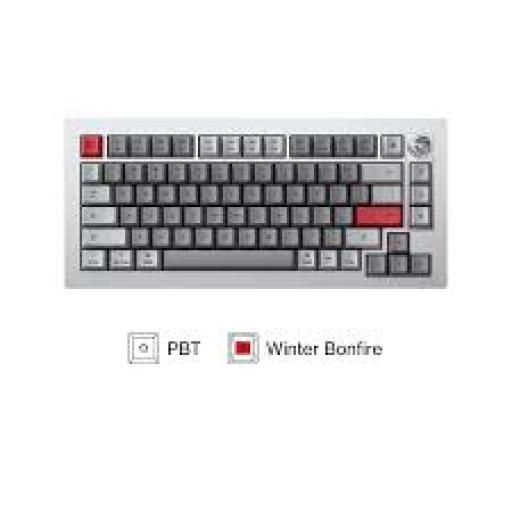keyboard: (66, 118, 444, 284)
